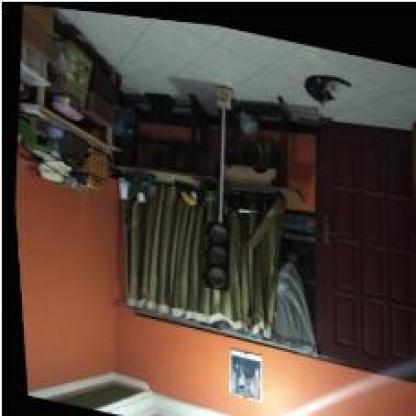green: (195, 215, 230, 287)
